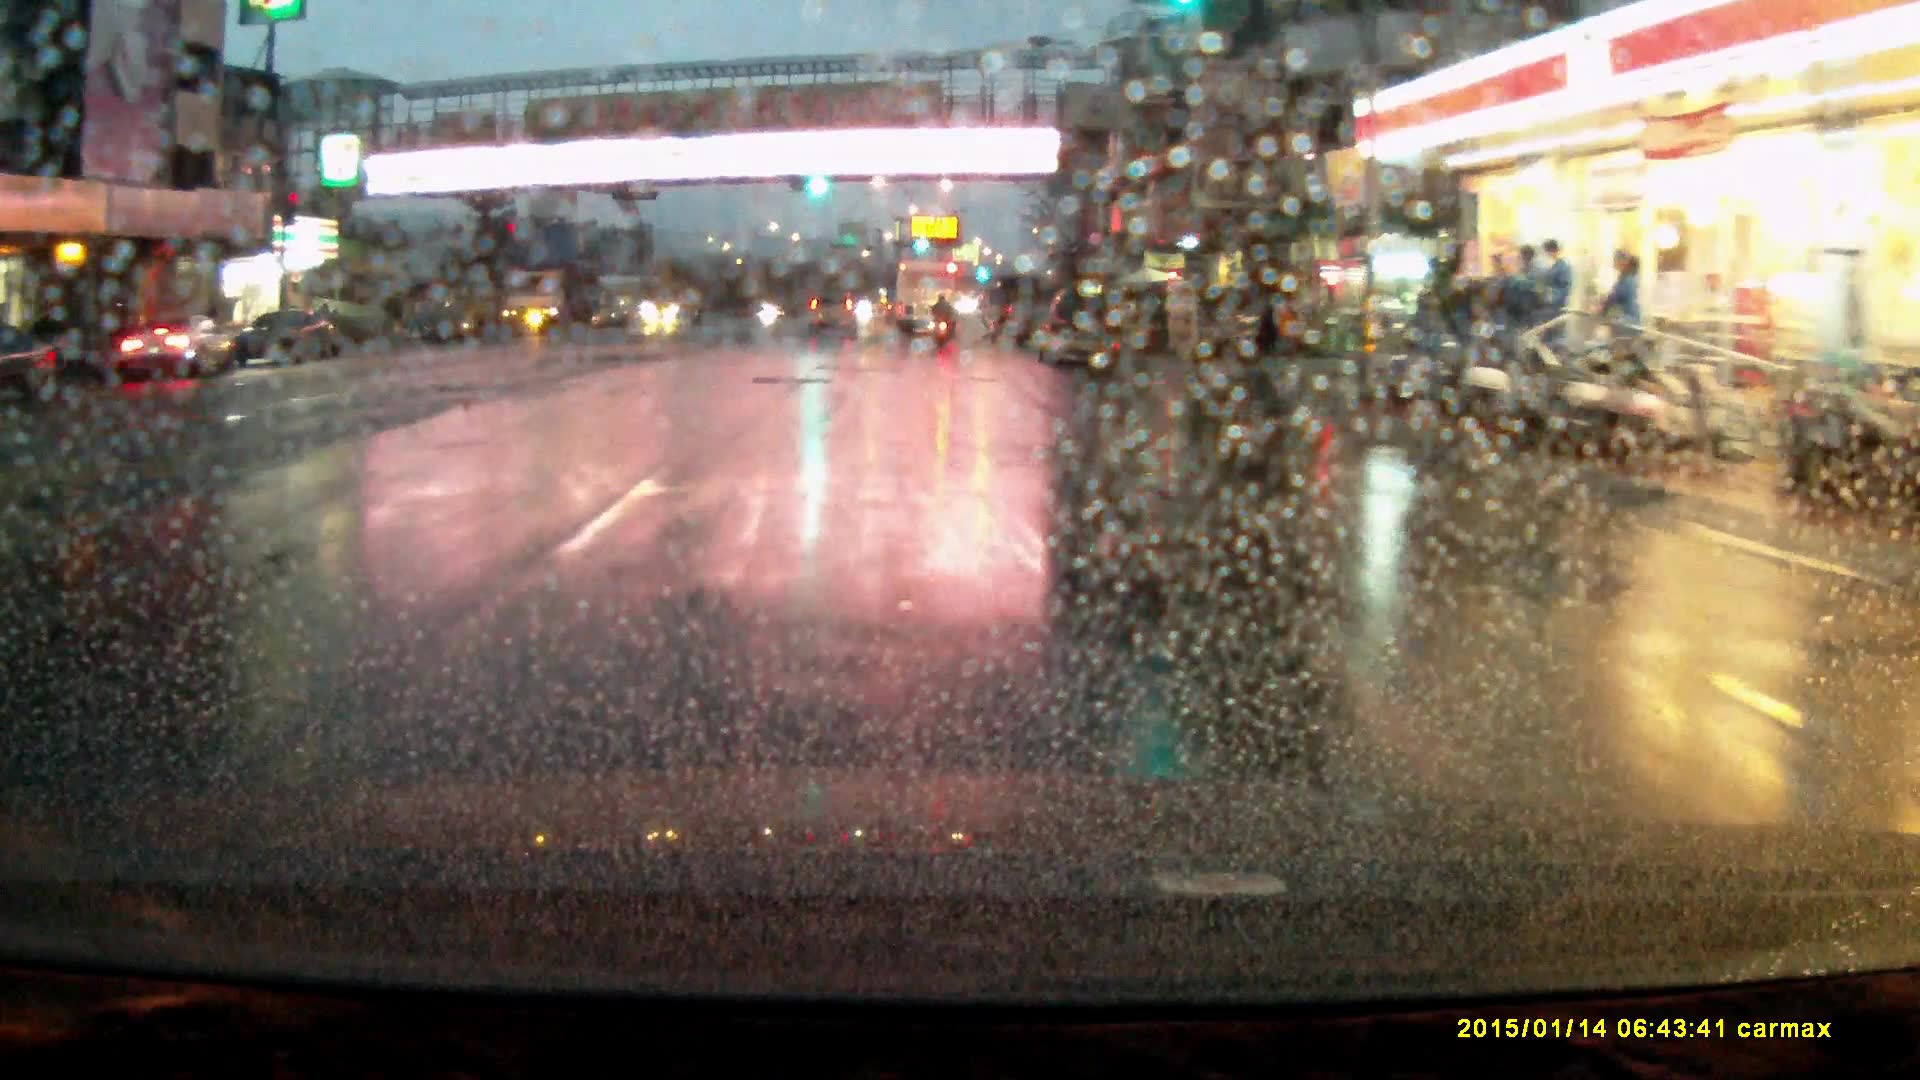rider: (932, 291, 958, 349)
vehicle: (502, 258, 602, 338), (119, 317, 231, 383), (1040, 289, 1123, 372), (234, 308, 346, 368), (1203, 293, 1288, 358), (896, 258, 956, 340), (645, 283, 708, 328), (808, 295, 861, 341)
